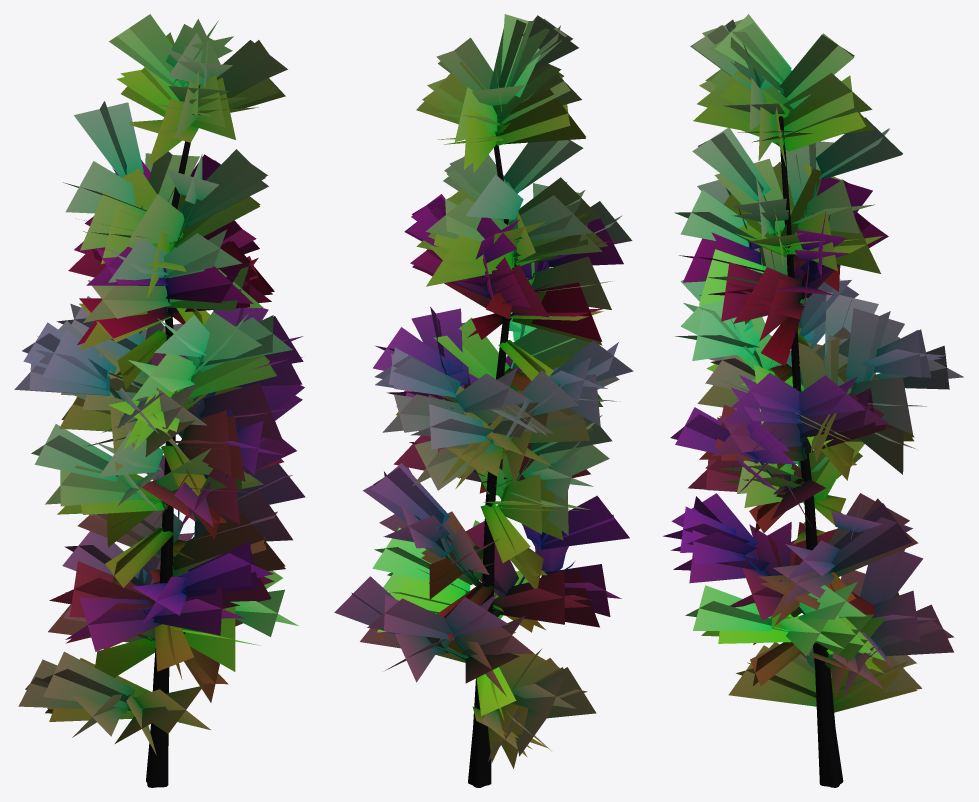
Rendered from M_Realistic21_5.fbx.
The picture shows the model from 3 angles, left to right: view 1: azimuth 30°, elevation 25°; view 2: azimuth 150°, elevation 25°; view 3: azimuth 270°, elevation 25°; orthographic projection. The views are drawn at different scales.
Parts seen in each view (by area): view 1: Tree_5; view 2: Tree_5; view 3: Tree_5.
Boxes of the visible parts, left/top/right/bottom form: Tree_5: left=14, top=14, right=305, bottom=787; Tree_5: left=334, top=14, right=633, bottom=787; Tree_5: left=663, top=14, right=963, bottom=787.
Bounding box in the file's own units: 1092 × 3051 × 1098.
